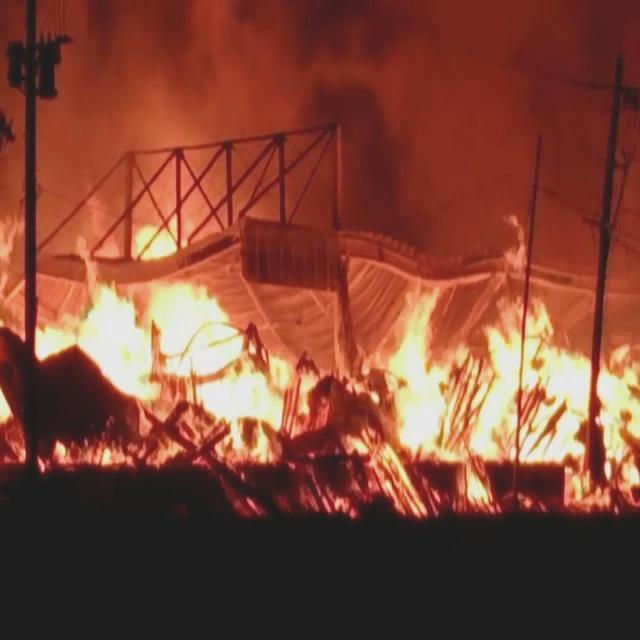Fire: (0, 215, 639, 538)
Smoke: (390, 16, 639, 218), (14, 0, 380, 134)
